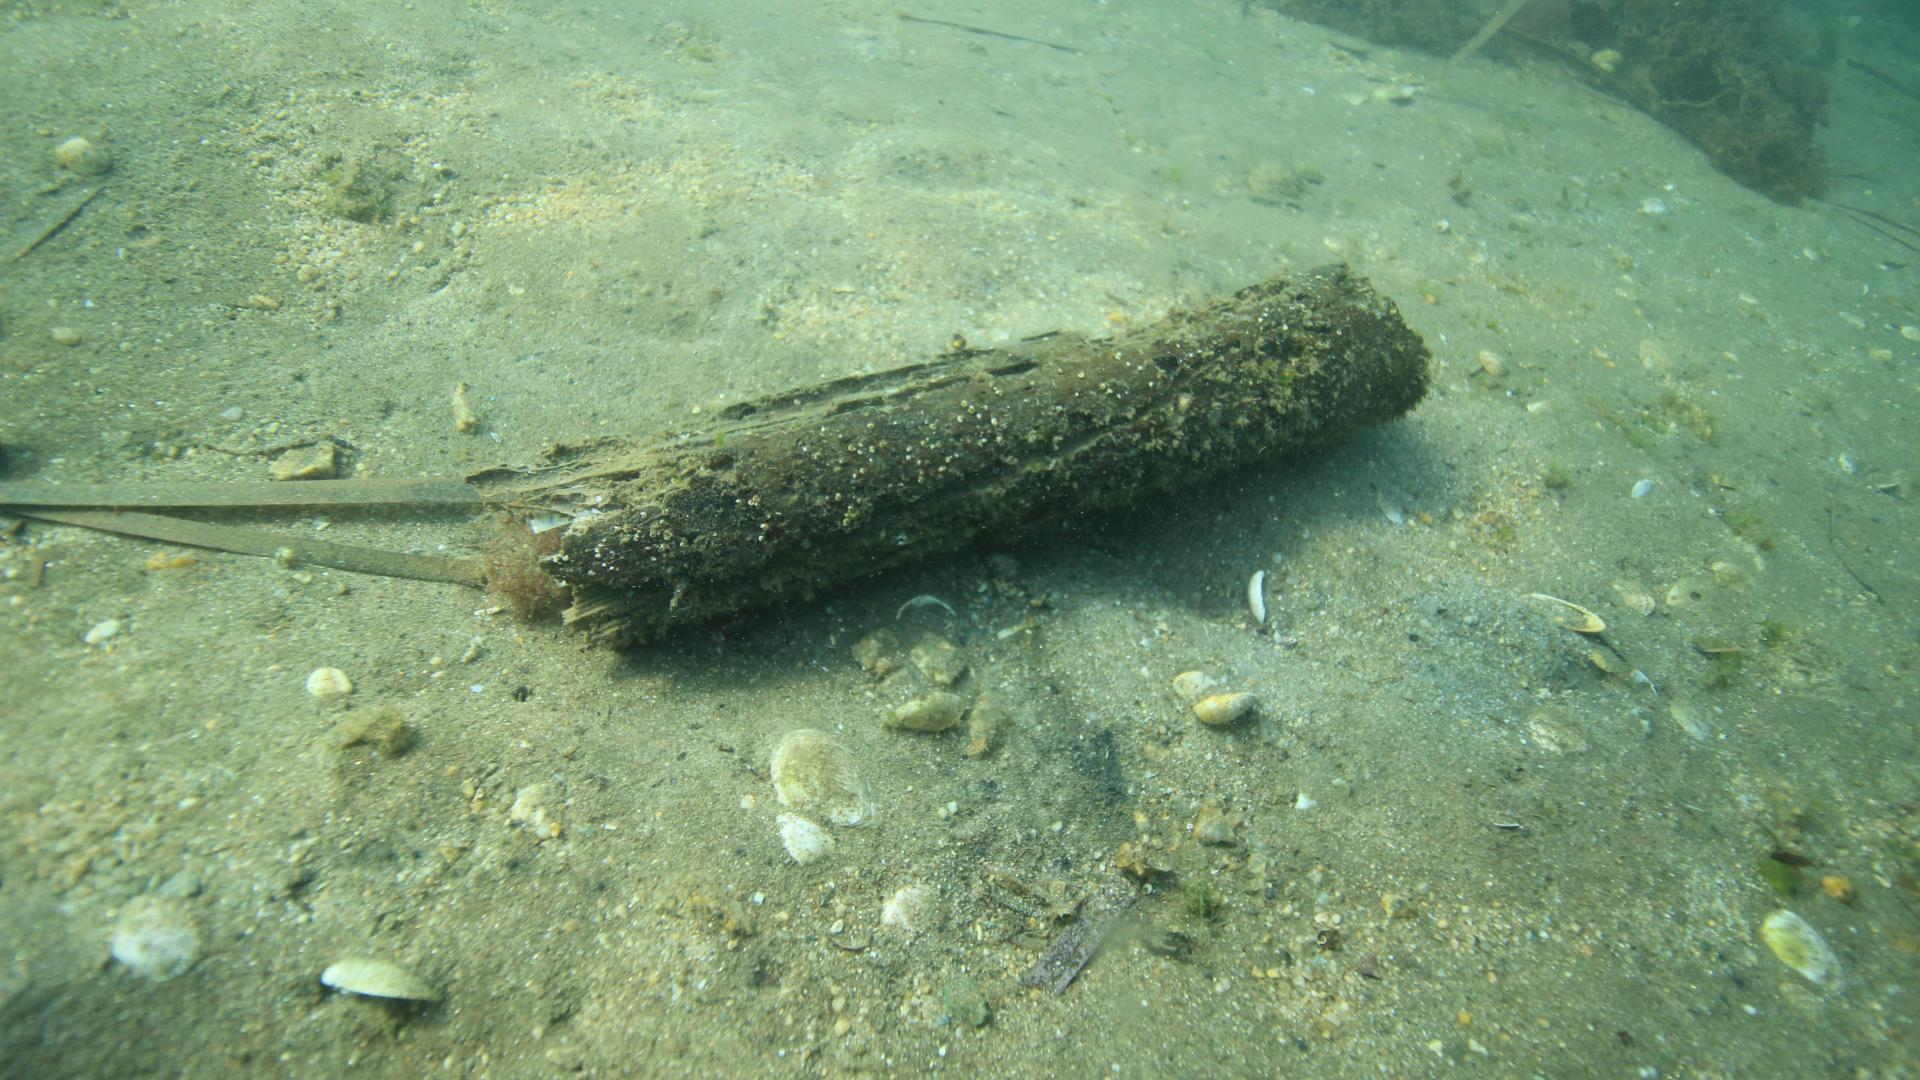wood: (465, 251, 1423, 653)
